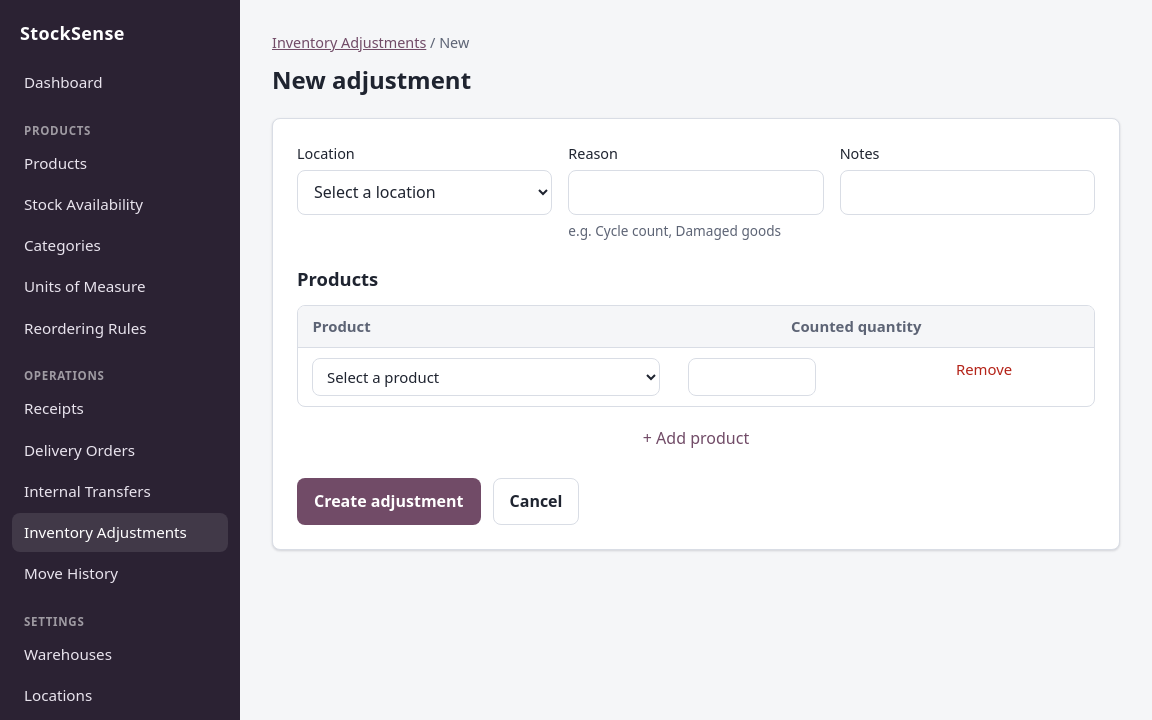
it: transfers and adjustments › shows recorded stock and the live difference while counting
Select "WH-MAIN / Rack A" in the dropdown labelled "Location" at (425, 192), box [297, 170, 552, 215]
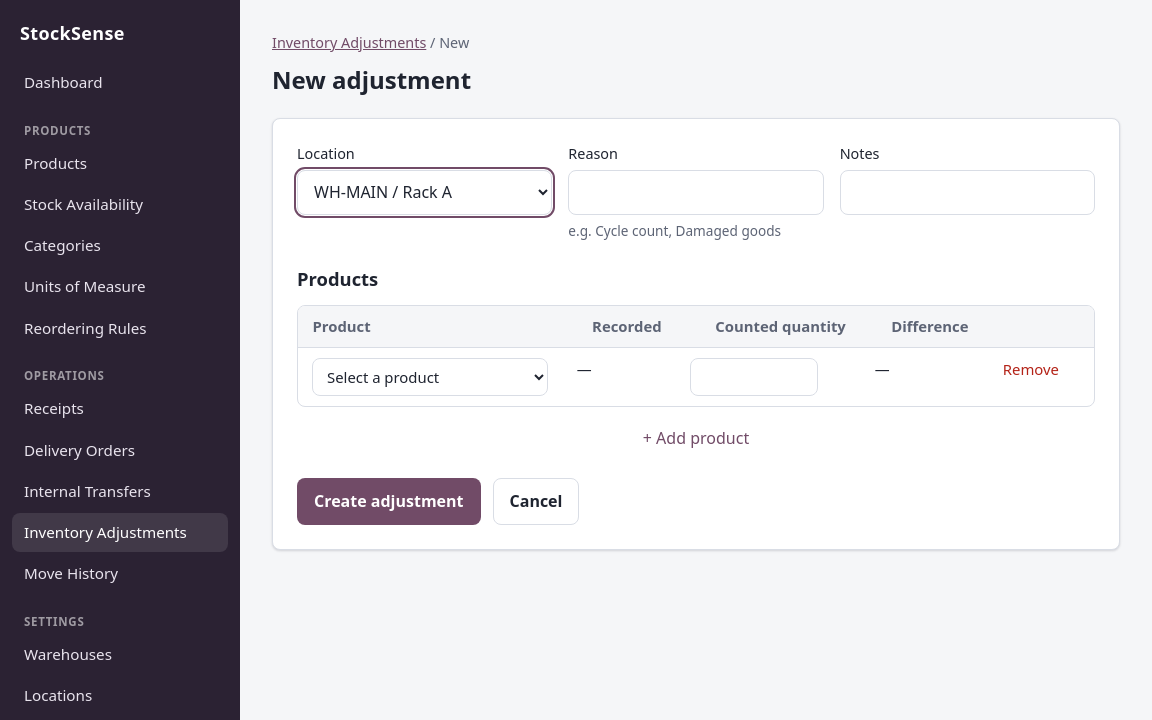
Select "Steel Rods (STL-ROD)" in the dropdown named "Product for line 1" at (430, 377), box [312, 358, 548, 396]
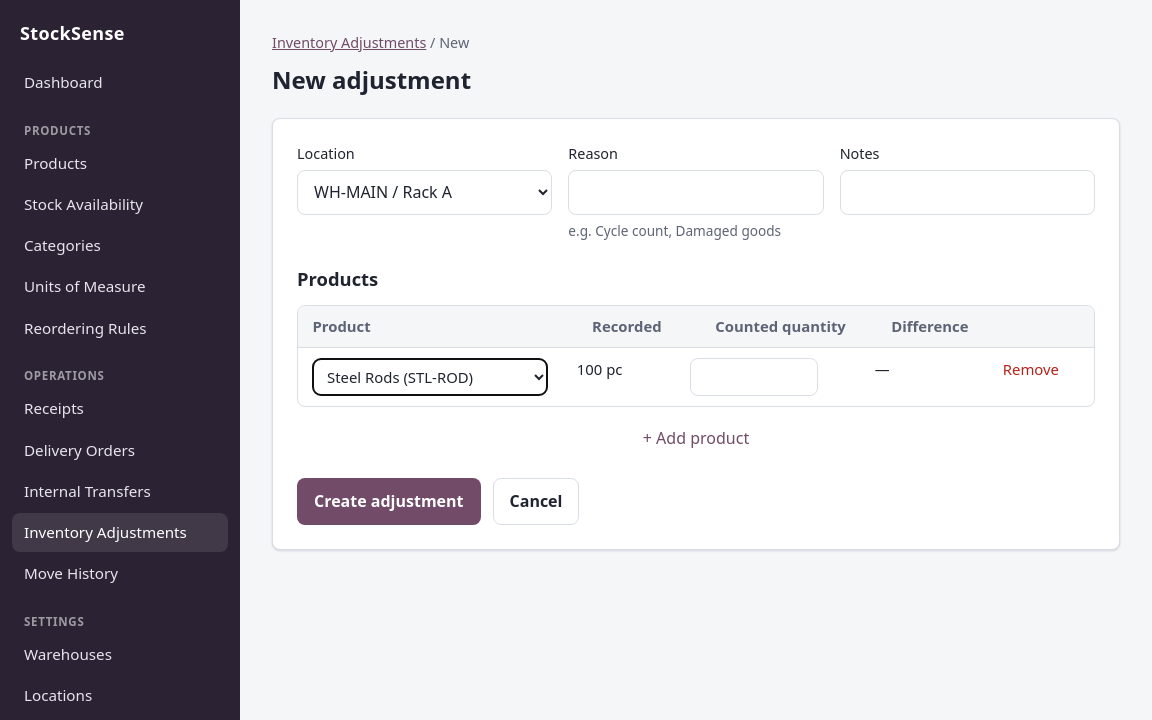
Type "97" into the field named "Counted quantity for line 1".
click(754, 377); type("97")  # box [690, 358, 818, 396]
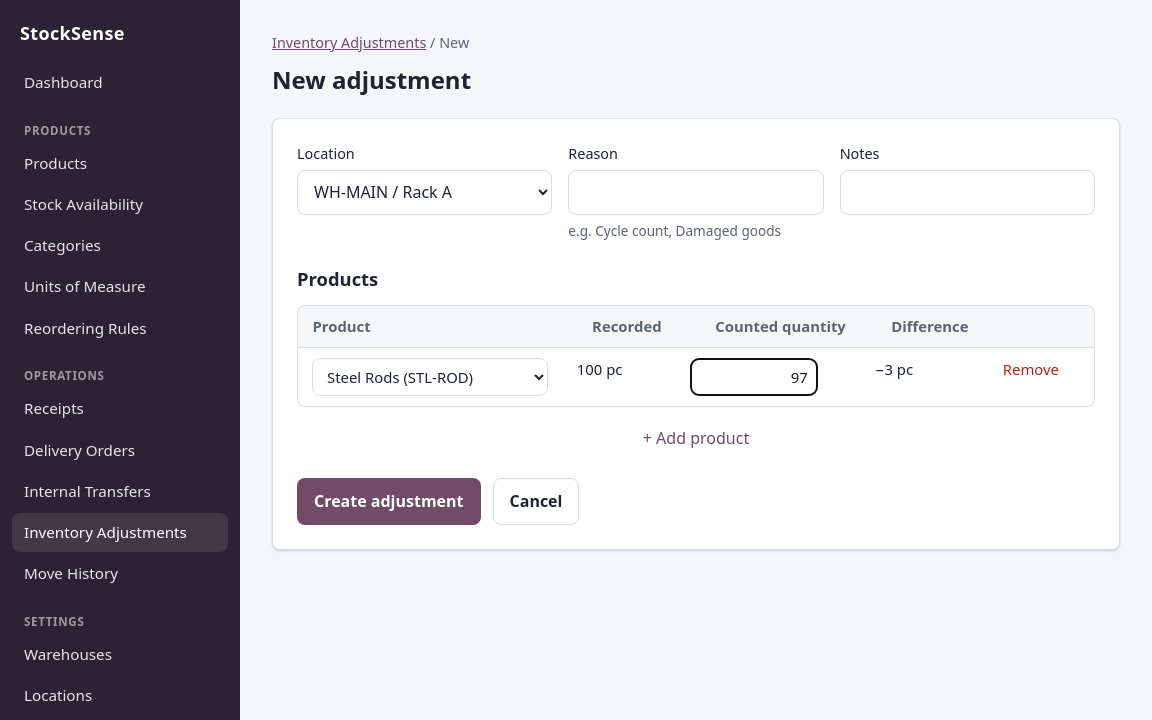
Expected: the text "100 pc" is shown, [562, 348, 676, 406]
Expected: the text "−3 pc" is shown, [860, 348, 983, 406]
